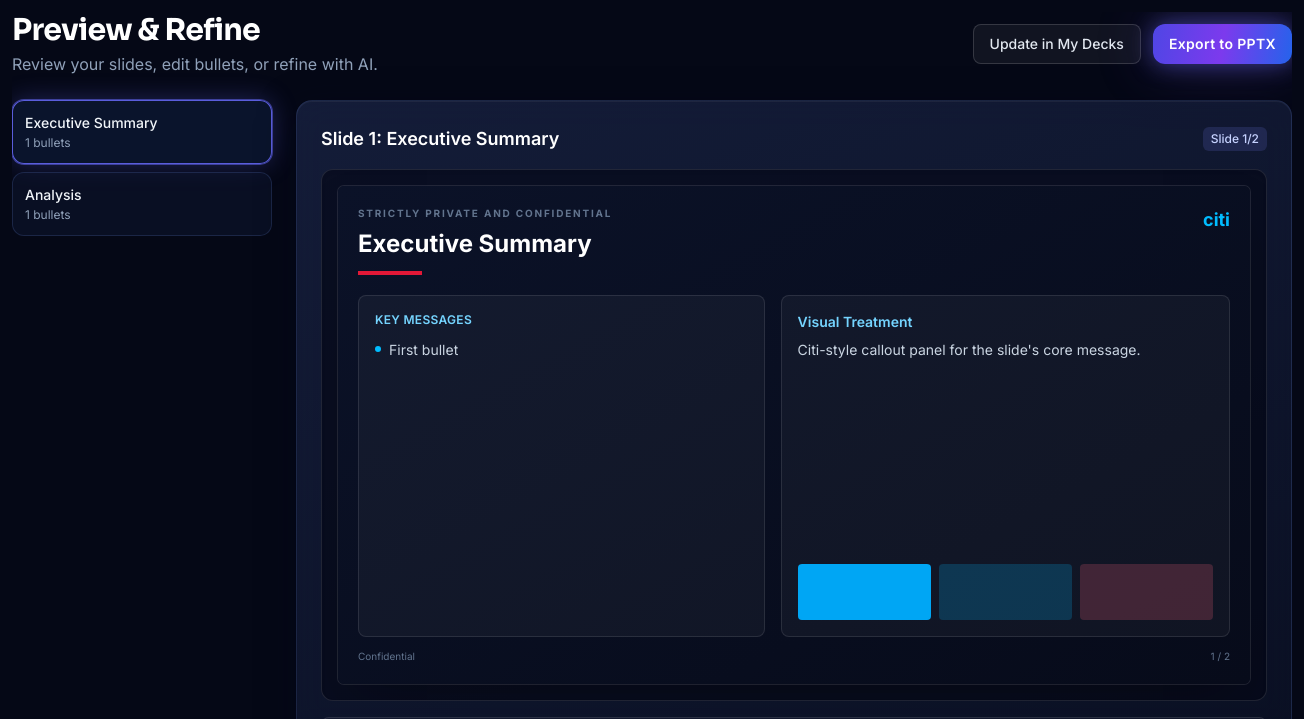
Test: PreviewPage › renders generated slides and chart indicators
This screenshot has width=1304, height=719.
Check: the text "Executive Summary" is shown, box [25,114,158,131]
Click the text "Analysis" at (53, 194), box [25,186,82,203]
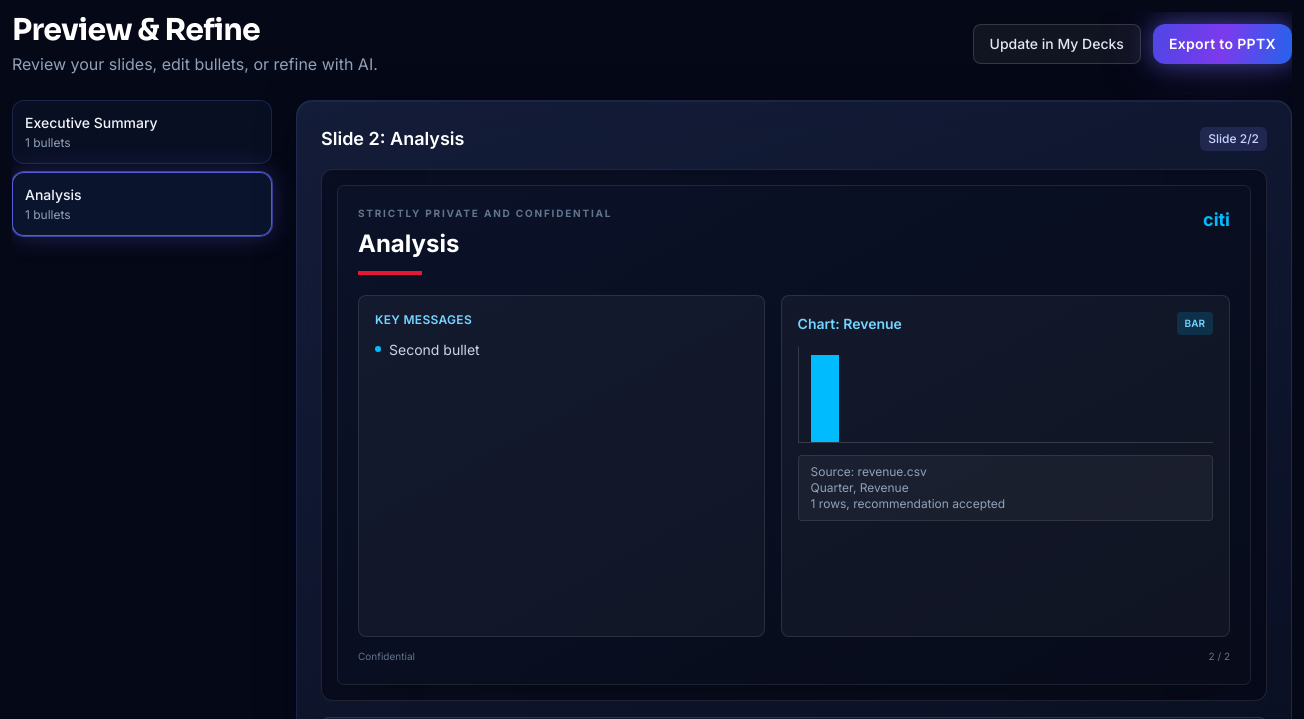
Check: the text "Chart: Revenue" is shown, box [798,314,902,334]
Check: the text "Source: revenue.csv" is shown, box [811,464,927,479]
Check: the text "Quarter, Revenue" is shown, box [811,480,909,495]
